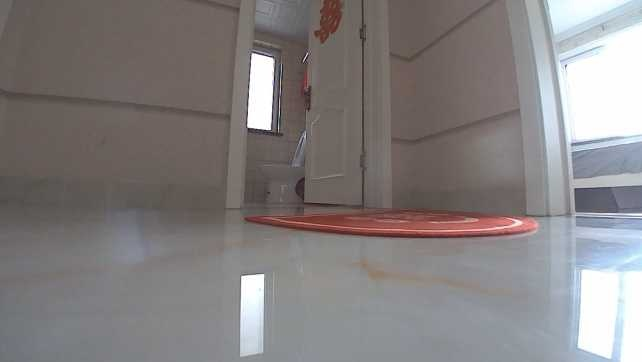blanket: (240, 208, 540, 238)
door_anno: (302, 1, 394, 208)
toilet: (260, 130, 308, 203)
